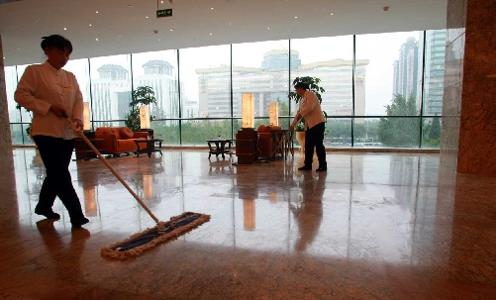person: (13, 34, 92, 227)
